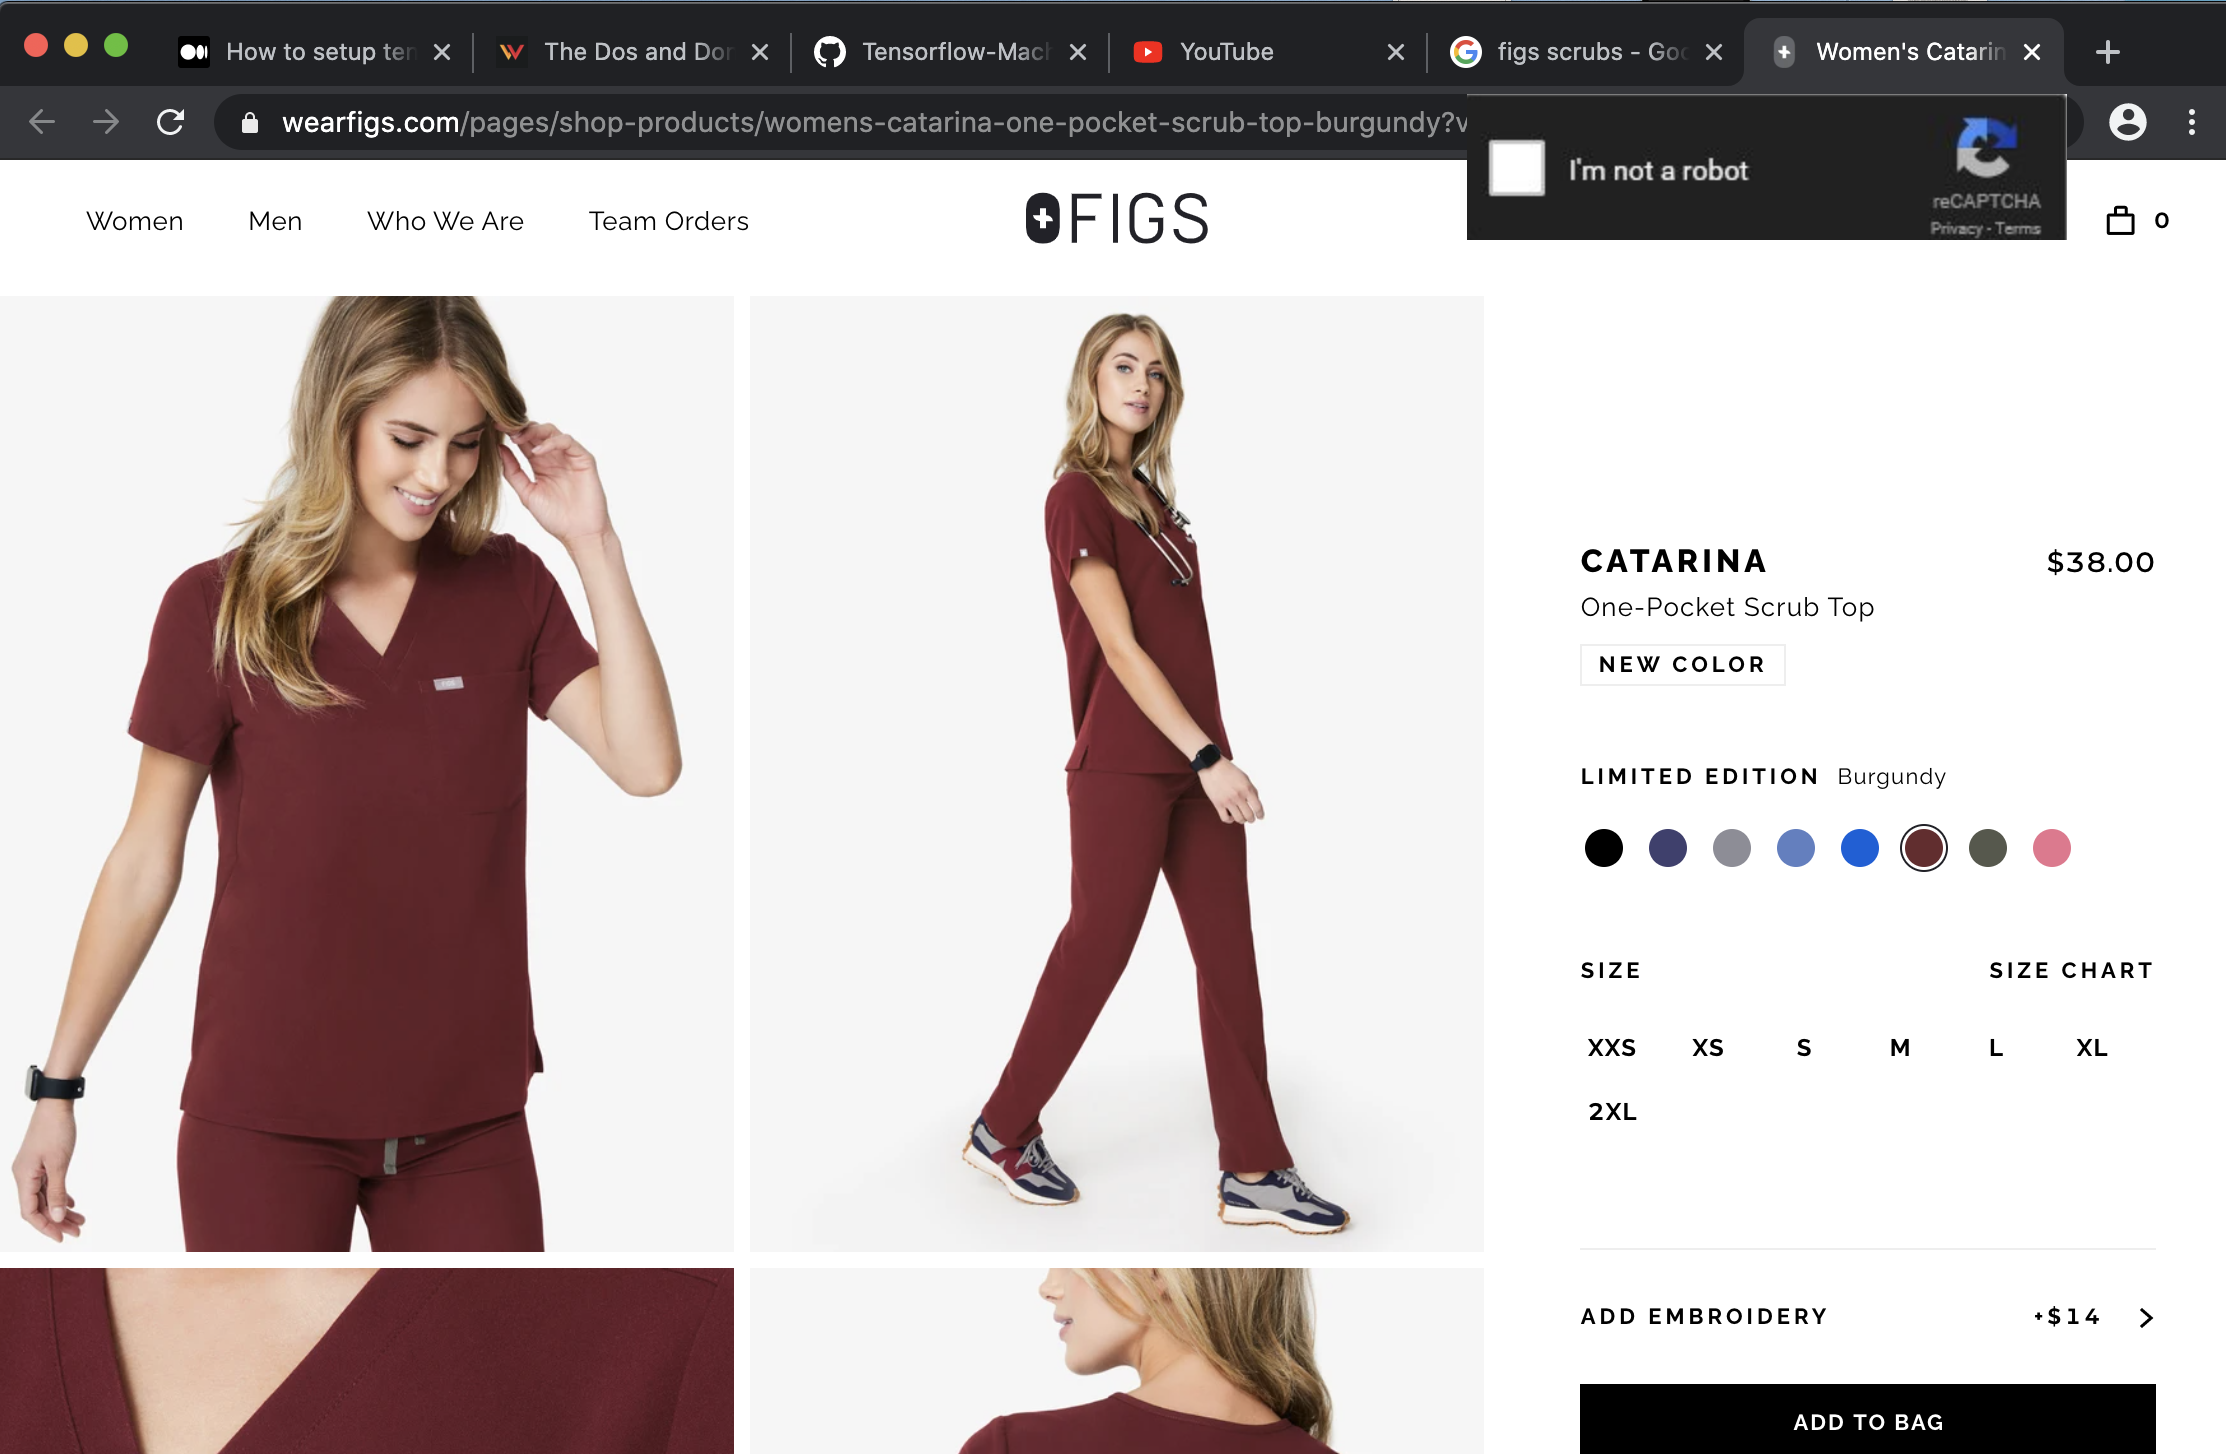captcha: (1454, 83, 2096, 266)
